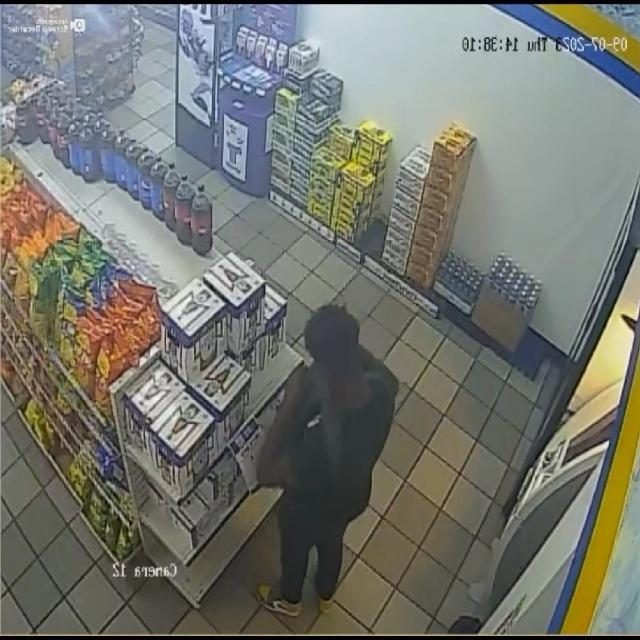Normal: (251, 271, 404, 640)
